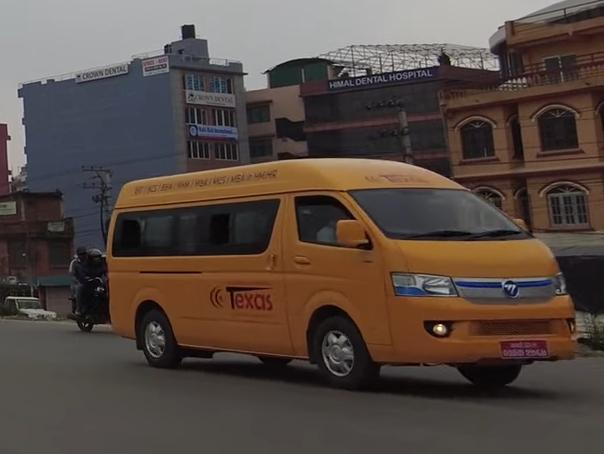school_bus: (102, 151, 578, 400)
